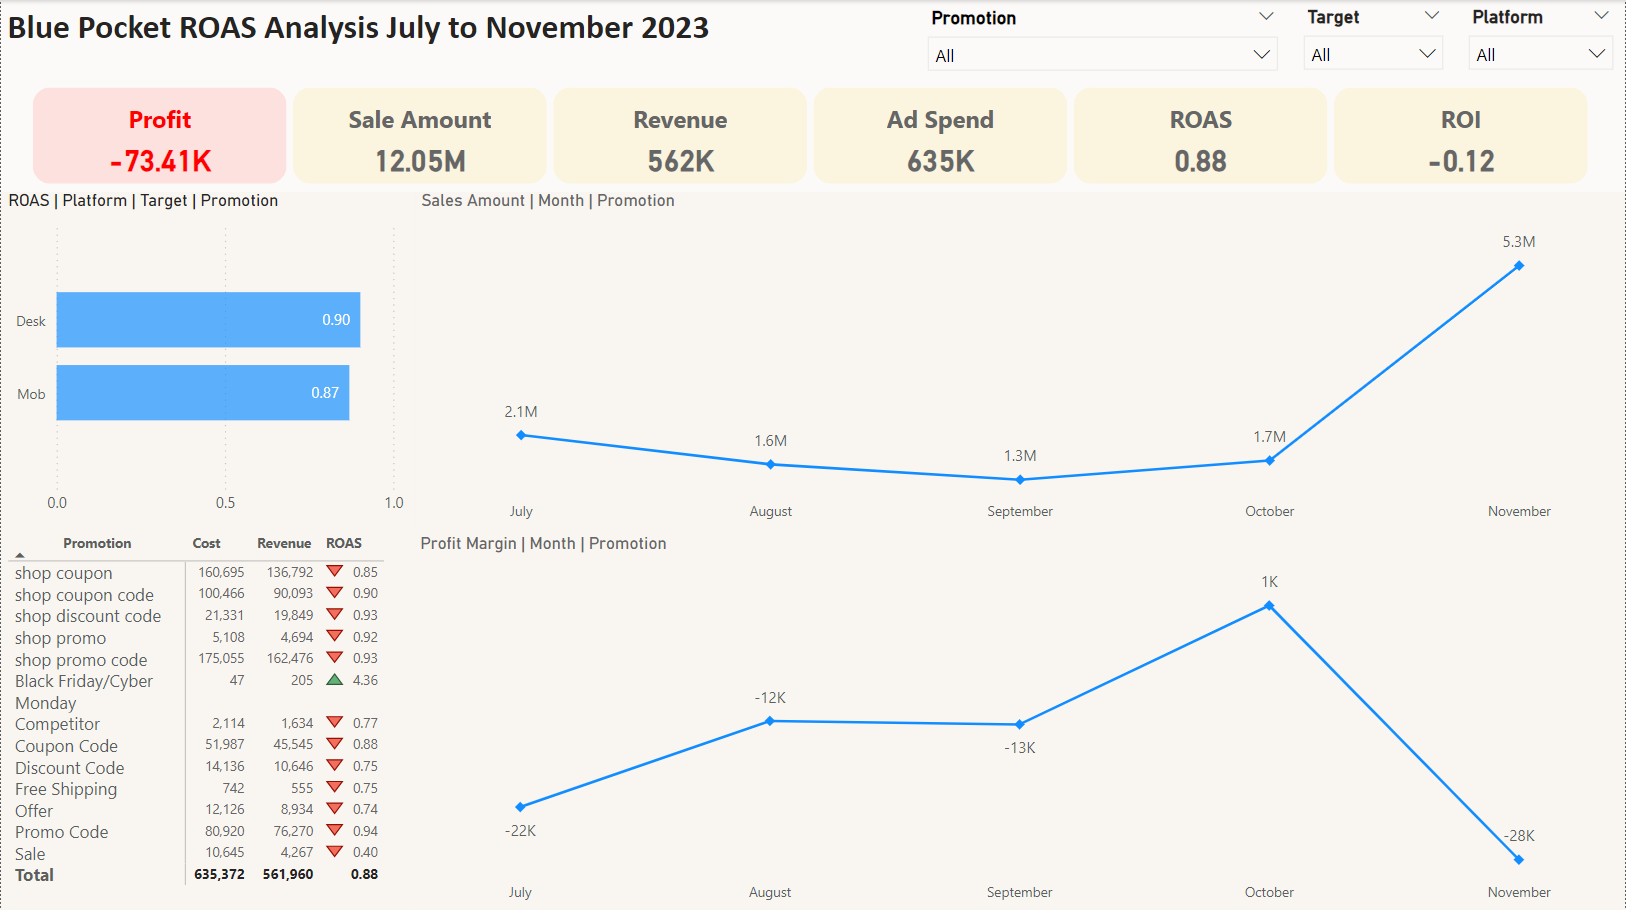

The page's visual inventory and layout, read from the dashboard file:
{"tool":"powerbi","page":{"name":"ROAS","canvas":[1280,720],"ordinal":0},"visuals":[{"type":"textbox","box":[0,0,1279.1,150.5],"z":0},{"type":"lineChart","title":"Sales Amount | Month | Promotion","fields":{"Category":["final_shop_6modata.Date.Variation.Date Hierarchy.Month","final_shop_6modata.Promotion"],"Y":["Sum(final_shop_6modata.Sale Amount)"]},"box":[326.1,150.3,953.4,270],"z":1000},{"type":"lineChart","title":"Profit Margin | Month | Promotion","fields":{"Category":["final_shop_6modata.Date.Variation.Date Hierarchy.Month","final_shop_6modata.Promotion"],"Y":["Sum(final_shop_6modata.P&L)"]},"box":[325.5,420.3,954.1,299.9],"z":2000},{"type":"cardVisual","fields":{"Data":["Sum(final_shop_6modata.P&L)","Sum(final_shop_6modata.Sale Amount)","Sum(final_shop_6modata.Revenue)","Sum(final_shop_6modata.Cost)","final_shop_6modata.ROAS","final_shop_6modata.ROI"]},"box":[0,64.1,1280,86.4],"z":3000},{"type":"slicer","fields":{"Values":["final_shop_6modata.Promotion"]},"box":[720.2,0.9,295.8,62.1],"z":4000},{"type":"slicer","fields":{"Values":["final_shop_6modata.Promotion Hierarchy.Target"]},"box":[1016.1,0,130.2,63],"z":5000},{"type":"slicer","fields":{"Values":["final_shop_6modata.Promotion Hierarchy.Platform"]},"box":[1146.3,0,133.7,63.8],"z":6000},{"type":"pivotTable","fields":{"Rows":["final_shop_6modata.Promotion"],"Values":["Sum(final_shop_6modata.Cost)","Sum(final_shop_6modata.Revenue)","final_shop_6modata.ROAS"]},"box":[0.6,414,324.9,306.2],"z":7000},{"type":"clusteredBarChart","title":"ROAS | Platform | Target | Promotion","fields":{"Category":["final_shop_6modata.Promotion Hierarchy.Platform","final_shop_6modata.Promotion Hierarchy.Target","final_shop_6modata.Promotion Hierarchy.Promotion"],"Y":["final_shop_6modata.ROAS"]},"box":[1,150.7,324.9,263.8],"z":8000}]}

Visuals, with their boxes in screenshot pixels (x1, y1, x2, y2), scaled from the page's 1280x720 canvas onto the 1626x910 screenshot:
textbox: 0, 0, 1625, 190
"Sales Amount | Month | Promotion" lineChart: 414, 190, 1625, 531
"Profit Margin | Month | Promotion" lineChart: 413, 531, 1625, 909
cardVisual - Sum(final_shop_6modata.P&L) x Sum(final_shop_6modata.Sale Amount): 0, 81, 1625, 190
slicer - final_shop_6modata.Promotion: 915, 1, 1291, 80
slicer - final_shop_6modata.Promotion Hierarchy.Target: 1291, 0, 1456, 80
slicer - final_shop_6modata.Promotion Hierarchy.Platform: 1456, 0, 1625, 81
pivotTable - final_shop_6modata.Promotion x Sum(final_shop_6modata.Cost): 1, 523, 413, 909
"ROAS | Platform | Target | Promotion" clusteredBarChart: 1, 190, 414, 524
